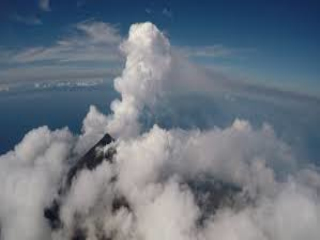smoke: (97, 20, 186, 134)
